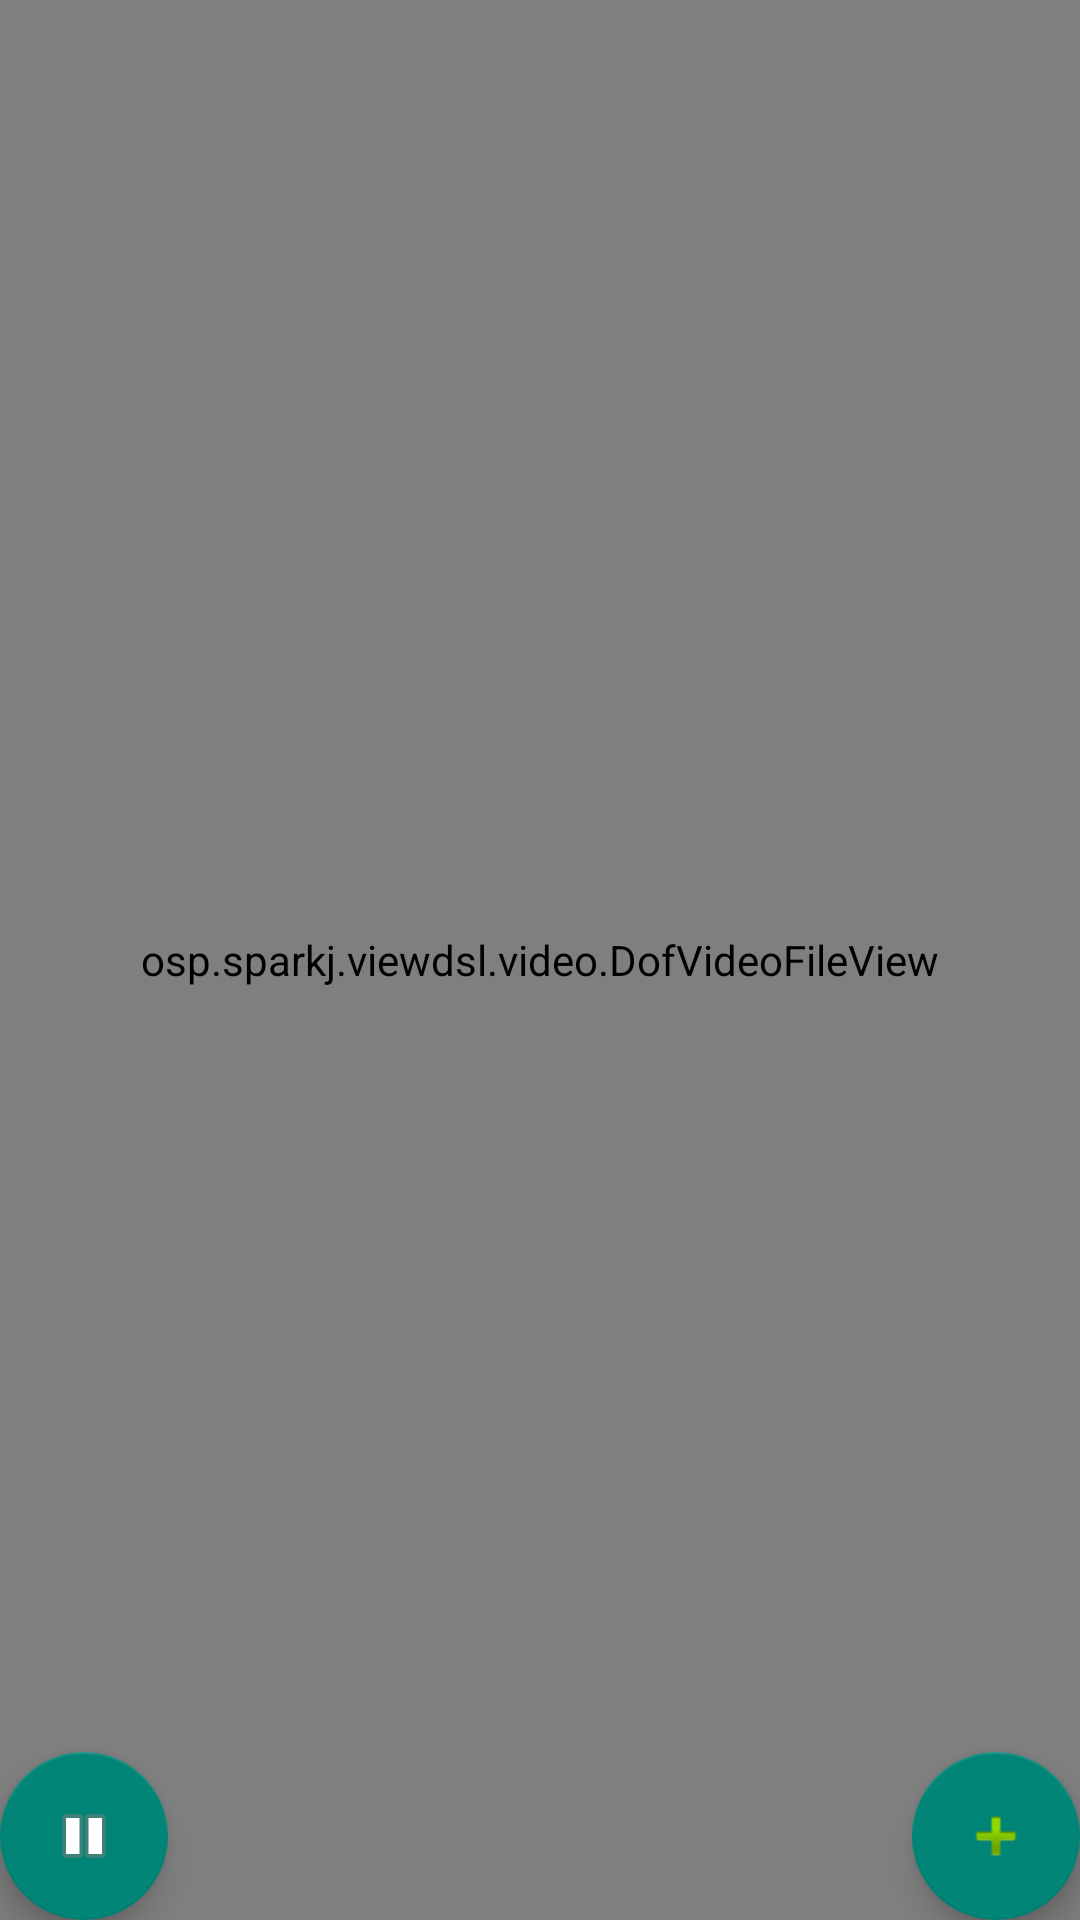

Named icons in this screenshot (1080px×1920px) and their bounding boxes, (x1, y1, x2, y2):
pick video: (912, 1752, 1080, 1920)
play pause: (0, 1752, 168, 1920)
